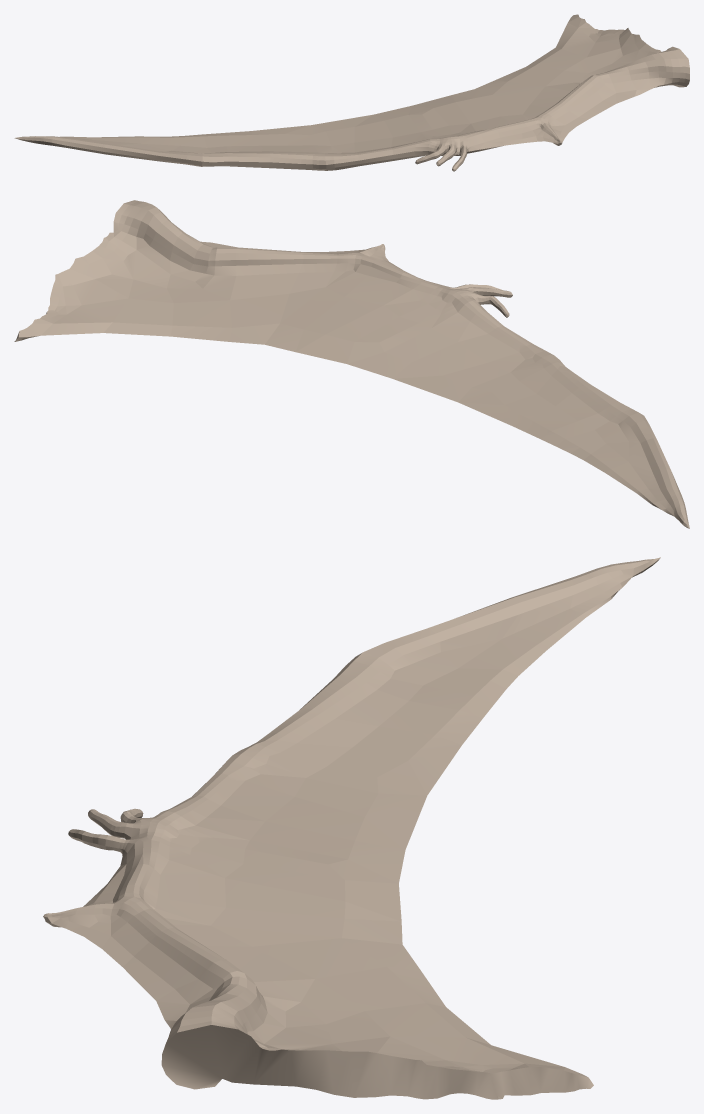
The model's file is BrazoIzq.obj.
3 renders of one model, top to bottom at view 1: azimuth 30°, elevation 25°; view 2: azimuth 150°, elevation 25°; view 3: azimuth 270°, elevation 25°, orthographic. The views are drawn at different scales.
Parts seen in each view (by area): view 1: polySurface6 polySurface1 pterodactyl_0; view 2: polySurface6 polySurface1 pterodactyl_0; view 3: polySurface6 polySurface1 pterodactyl_0.
Boxes of the visible parts, x1=… form: polySurface6 polySurface1 pterodactyl_0: x1=14, y1=14, x2=689, y2=171; polySurface6 polySurface1 pterodactyl_0: x1=14, y1=200, x2=689, y2=528; polySurface6 polySurface1 pterodactyl_0: x1=43, y1=557, x2=660, y2=1099.
Bounding box in the file's own units: 11.16 × 0.869 × 5.36.
2 materials, 2 textured.
